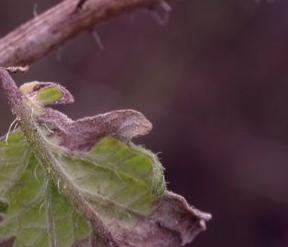Tomato leaf late blight: (0, 85, 212, 247)
